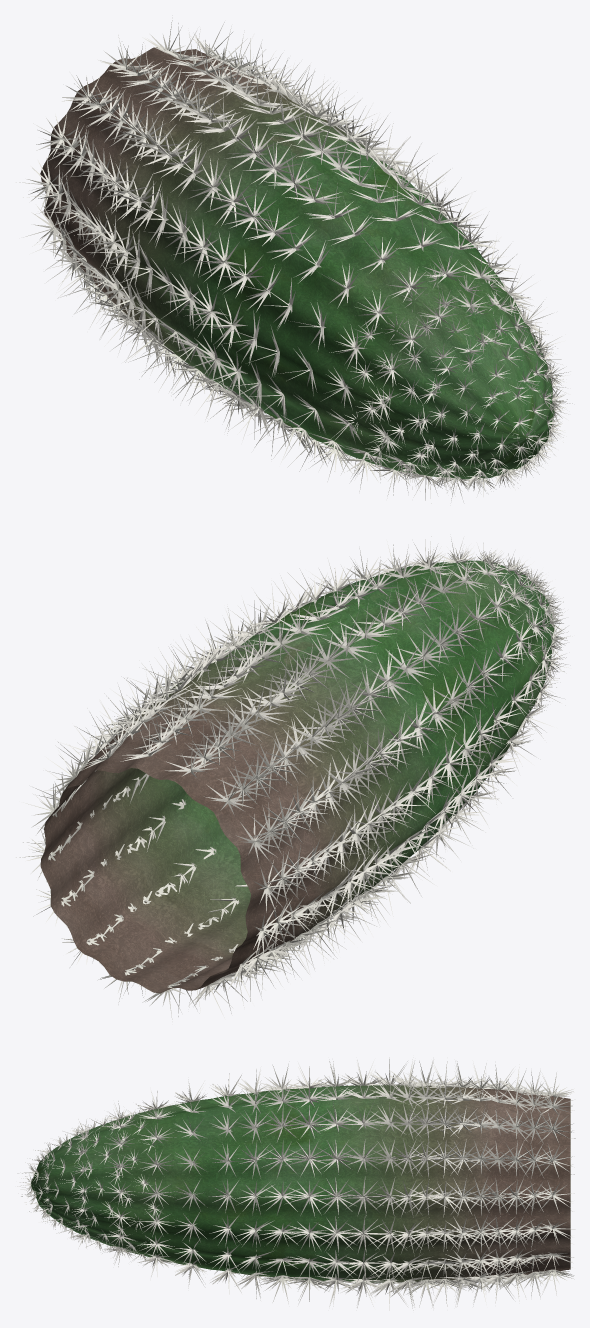
3 views of the same model, one above another, from view 1: azimuth 30°, elevation 25°; view 2: azimuth 150°, elevation 25°; view 3: azimuth 270°, elevation 25° (orthographic). The views are drawn at different scales.
Visible parts, largest first — view 1: SW08_3; view 2: SW08_3; view 3: SW08_3.
Boxes of the visible parts, x1,y1,x2,y2 form: SW08_3: (16,18,572,503); SW08_3: (16,536,572,1021); SW08_3: (17,1057,575,1310).
Bounding box in the file's own units: 18.9 × 18.9 × 40.79.
Materials: 2 (2 with a texture image).
